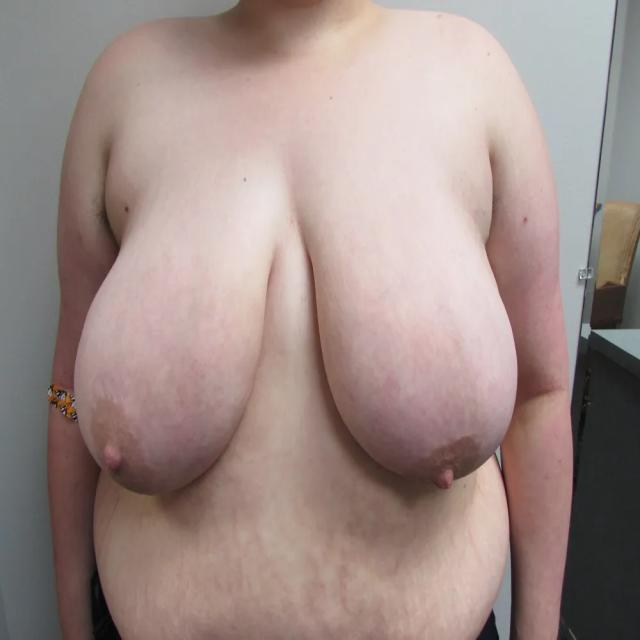Seno ileso: (293, 139, 525, 516), (67, 139, 286, 522)
